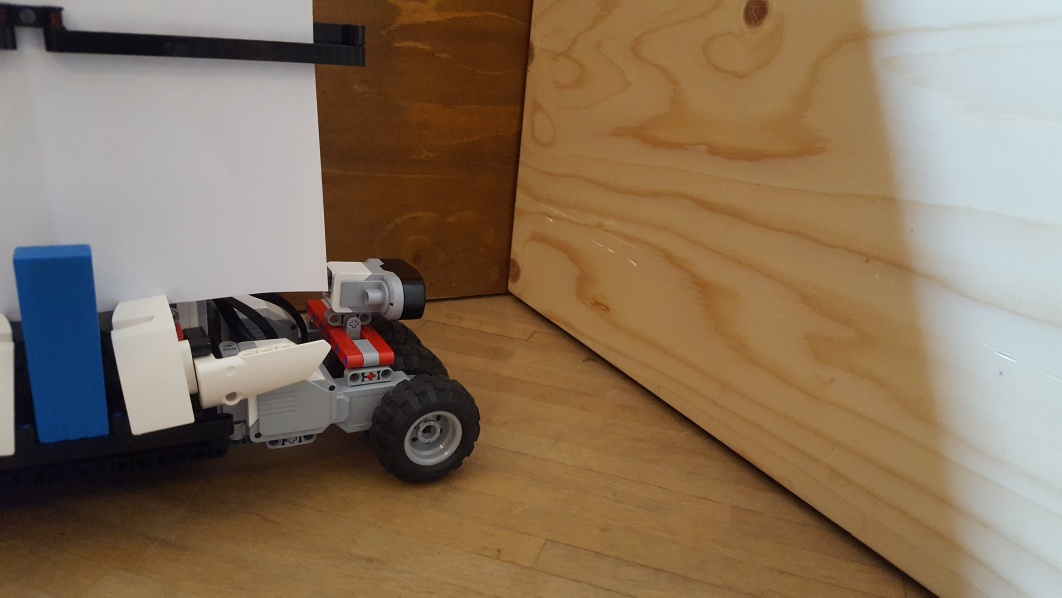car: (1, 2, 482, 487)
